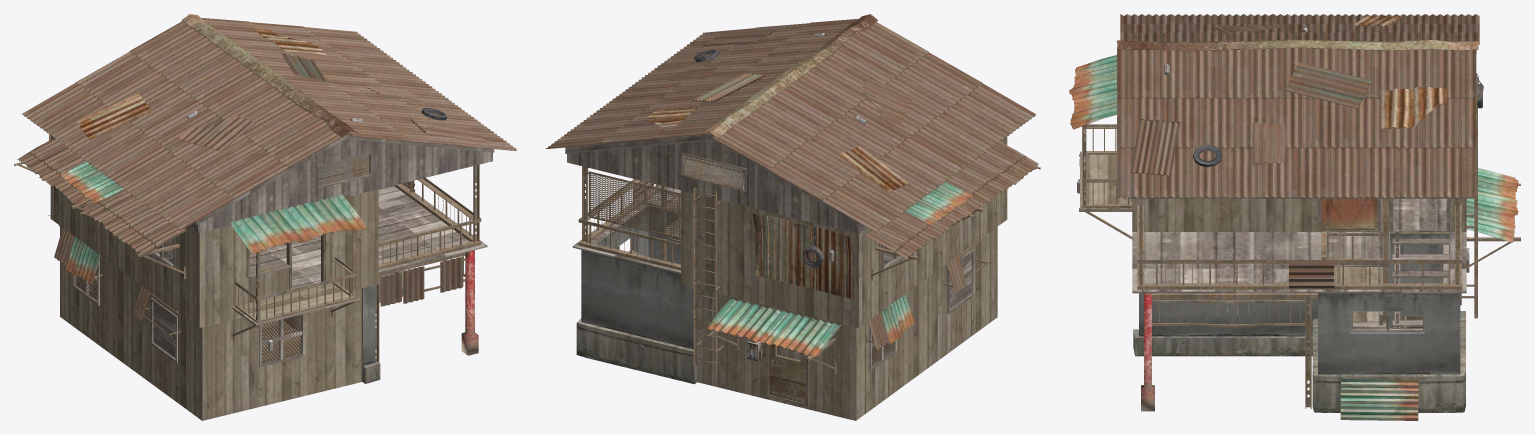
File: house_d.glb
3 views of the same model, side by side, from view 1: azimuth 30°, elevation 25°; view 2: azimuth 150°, elevation 25°; view 3: azimuth 270°, elevation 25° (orthographic). The views are drawn at different scales.
Visible parts, largest first — view 1: prefab; view 2: prefab; view 3: prefab.
Part boxes in pixels (<box>): prefab: <box>14,14,516,420</box>; prefab: <box>545,14,1040,420</box>; prefab: <box>1069,14,1520,420</box>.
Size of the model in its own units: 11.63 by 8.2 by 11.32.
Materials: 6 (6 with a texture image).
